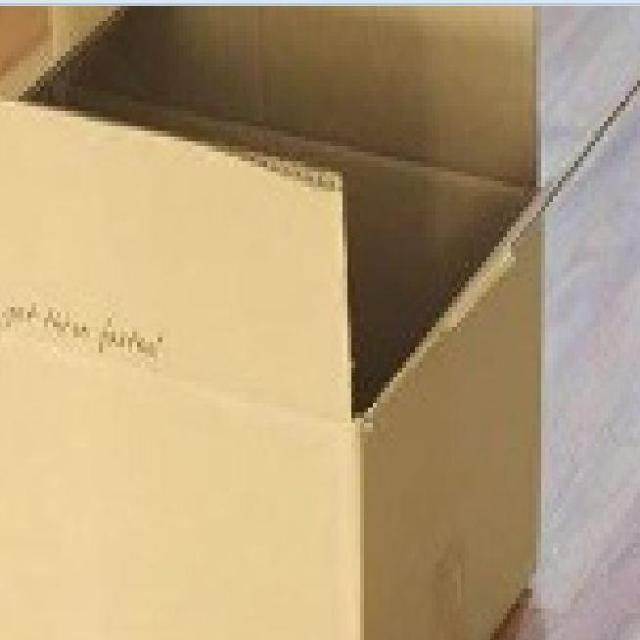cardboard: (0, 0, 540, 640)
